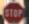Stop sign: (0, 0, 28, 23)
